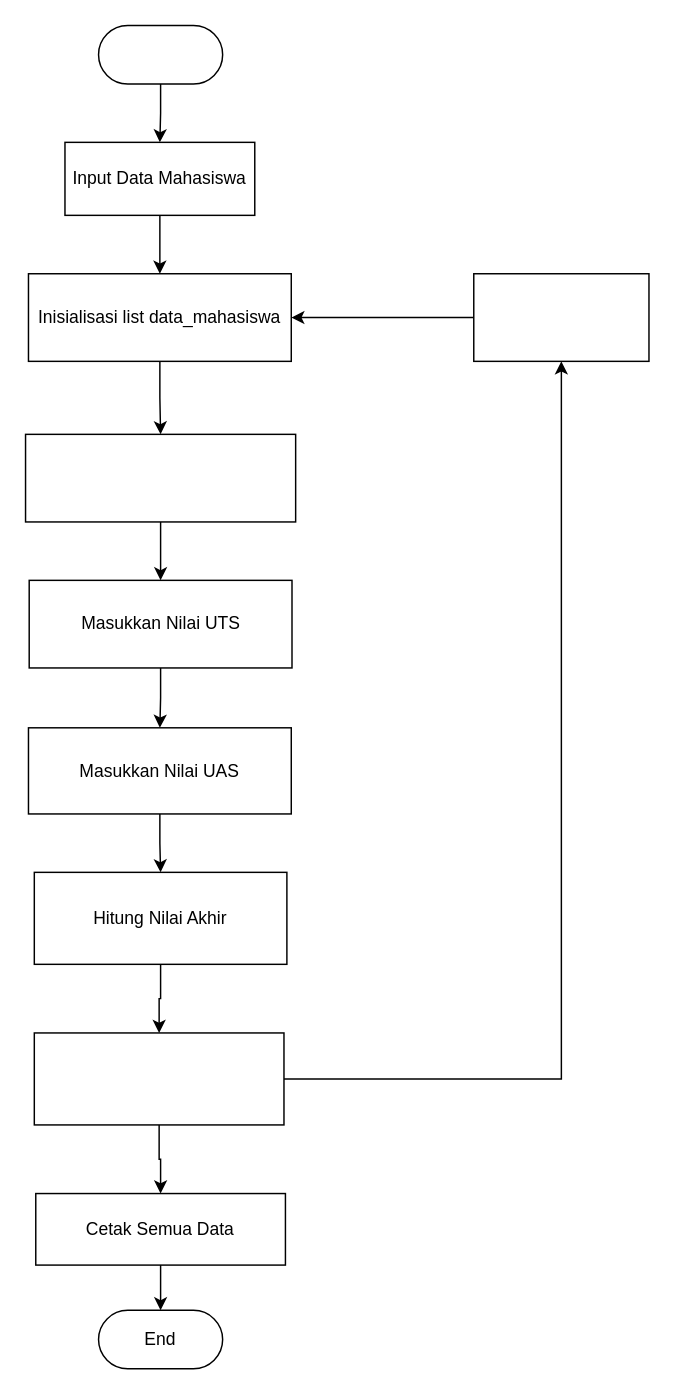
Image size: 675x1394. Some labels were removed from this diagram. Each missing label, with the centre of its shape:
"Jawab Y" goes at (x=560, y=316).
"Masukkan Nilai Tugas" goes at (x=160, y=477).
"Star" goes at (x=160, y=54).
"Tambah Data Lagi Jawab(Y/T)" goes at (x=158, y=1078).
